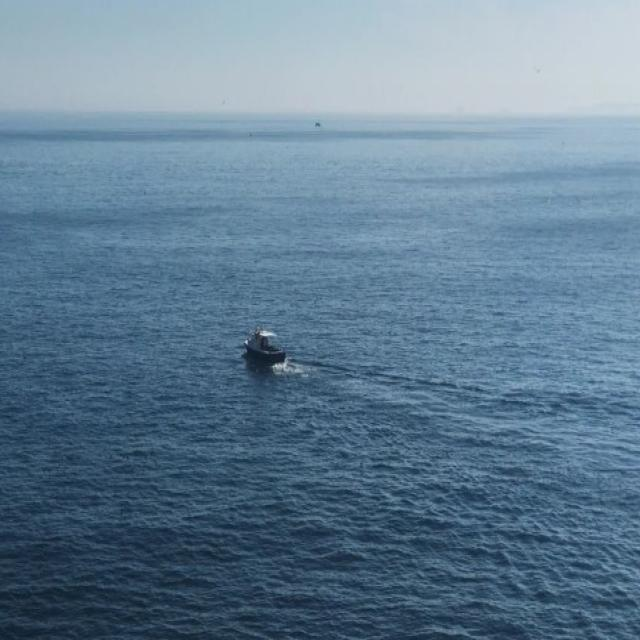houseboat: (240, 318, 287, 371)
